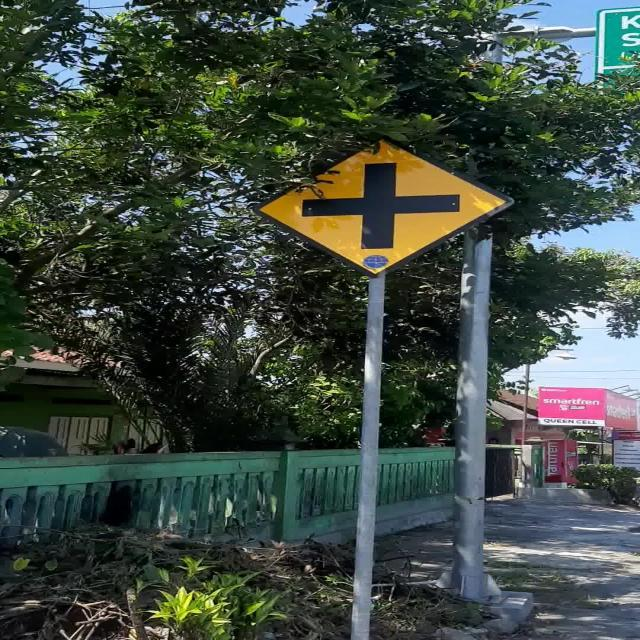Persimpangan 4: (254, 134, 514, 279)
